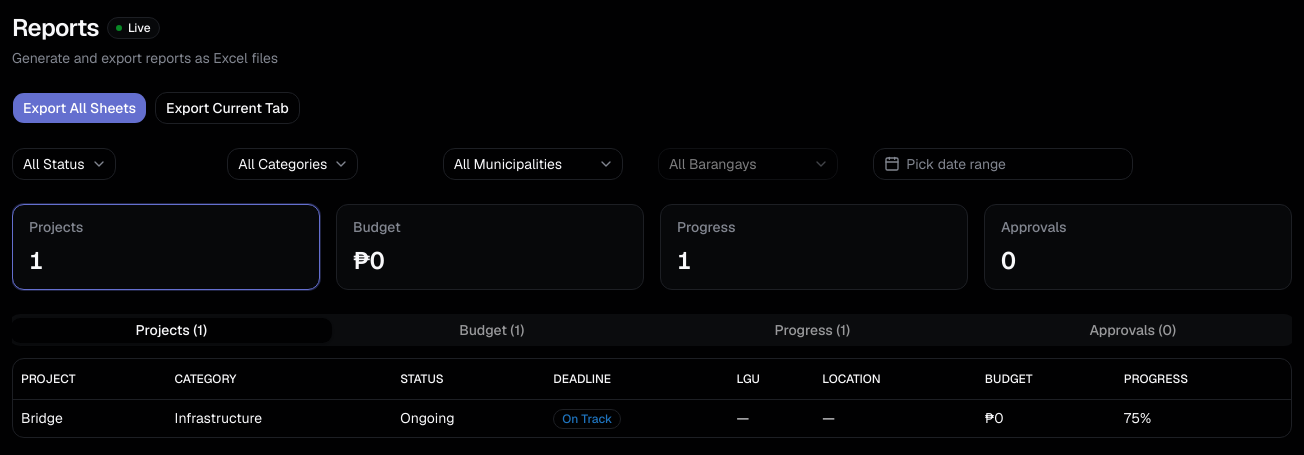
Scenario: ReportsModule (V12) › should show Updated By as the submitter full name on the Progress tab
The width and height of the screenshot is (1304, 455).
Click the tab "Progress (1)".
click(812, 330)  # box [652,318,972,342]
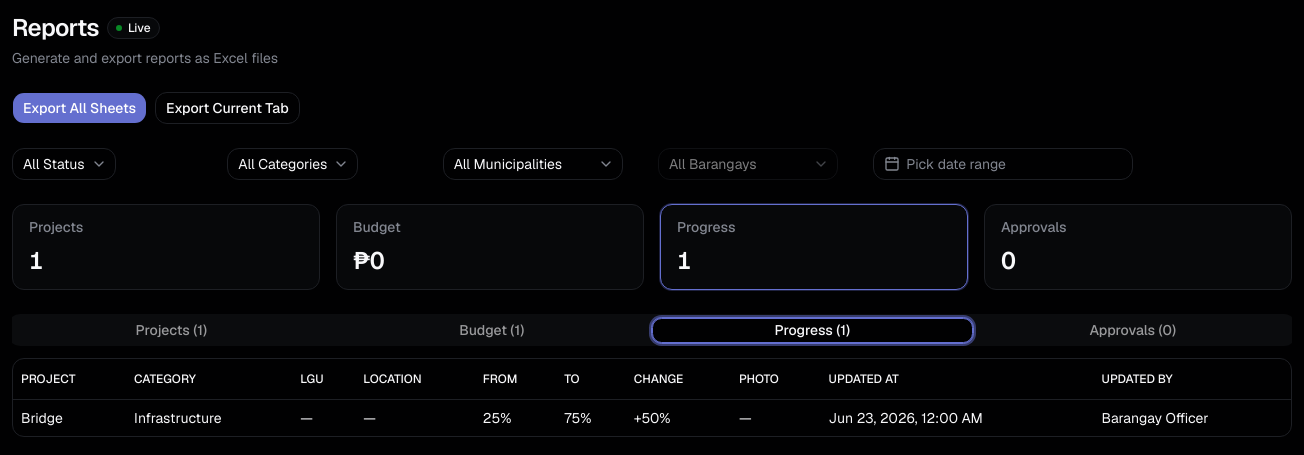
Now the text "Barangay Officer" is shown, box [1094,399,1291,436]
